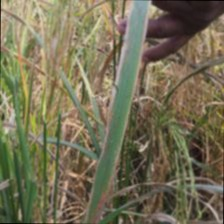Leaf_Blast: (97, 3, 136, 185)
